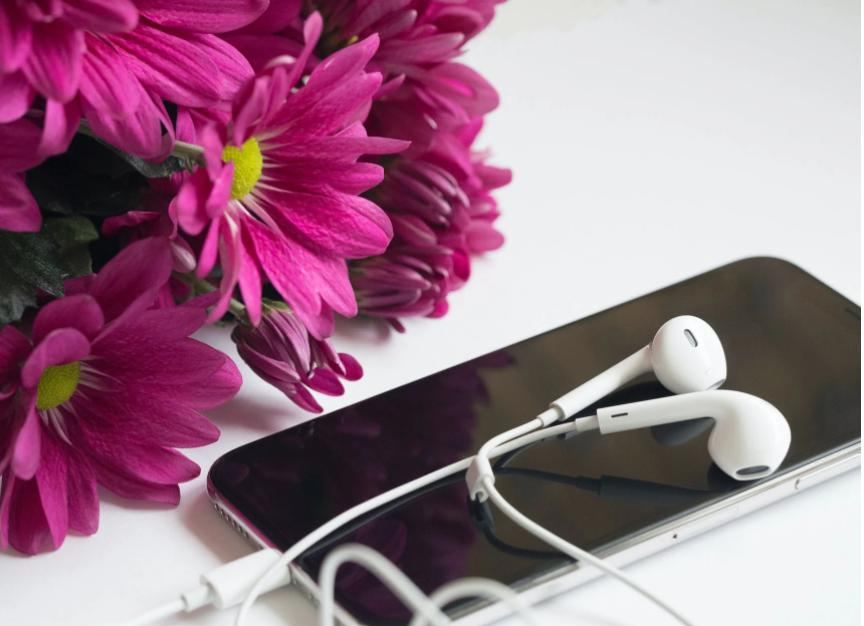mobile: (206, 255, 864, 626)
